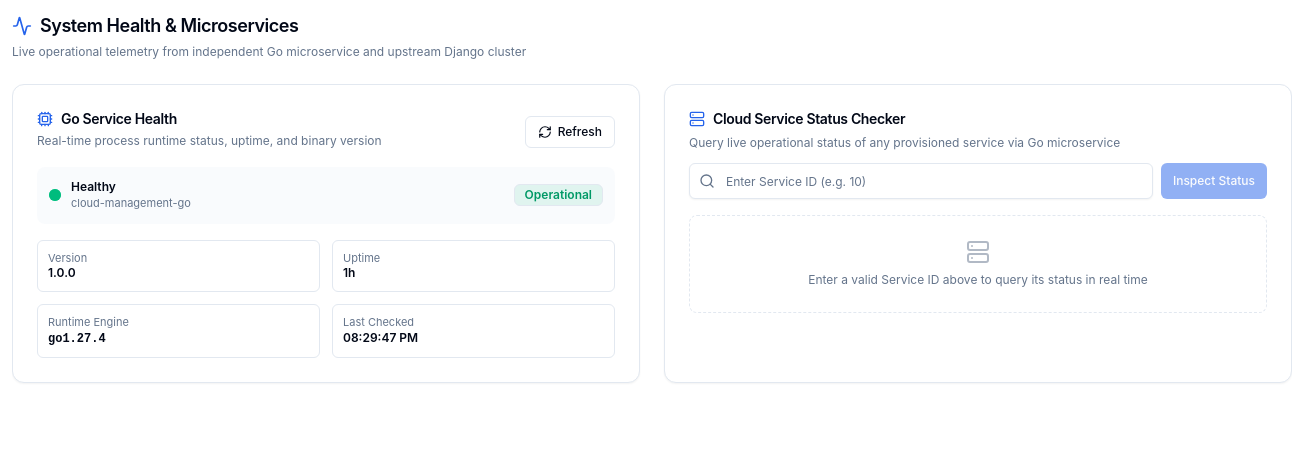
Test: SystemHealthSection Component › queries service status when valid service ID is submitted
Expected: the text "cloud-management-go" is shown, [71,195,191,212]
Type "10" into the number field with placeholder "Enter Service ID (e.g. 10)" at (921,181), box [689,163,1153,199]
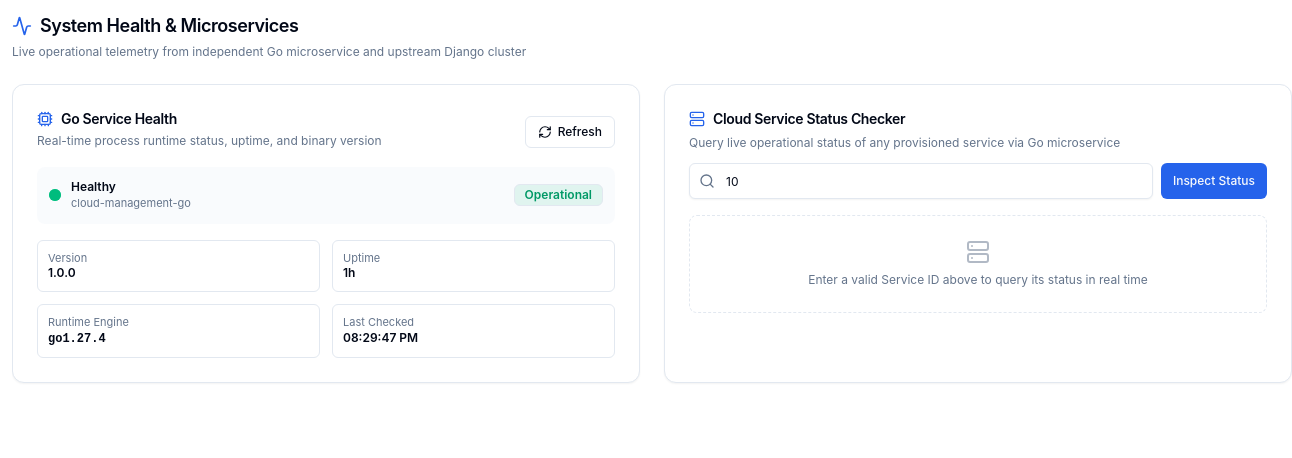
Click the button "Inspect Status" at (1214,181), box [1161,163,1267,199]
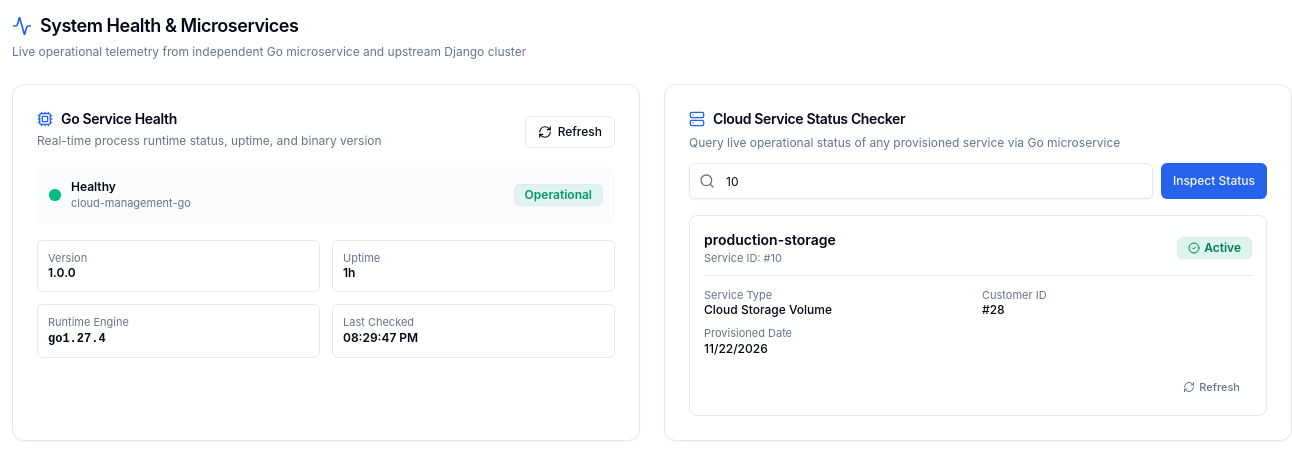
Expected: the heading "production-storage" is shown, [704,230,836,250]
Expected: the text "Service ID: #10" is shown, [704,251,782,265]
Expected: the text "Customer ID" is shown, [982,288,1047,302]
